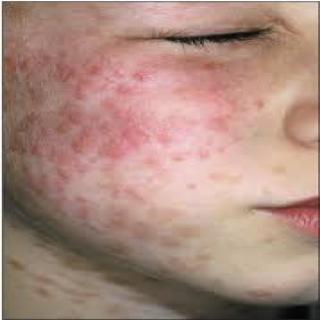urticaria: (46, 50, 156, 161), (164, 55, 246, 154), (56, 170, 149, 235)
